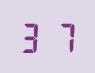seven: (47, 20, 74, 53)
three: (19, 20, 46, 53)
